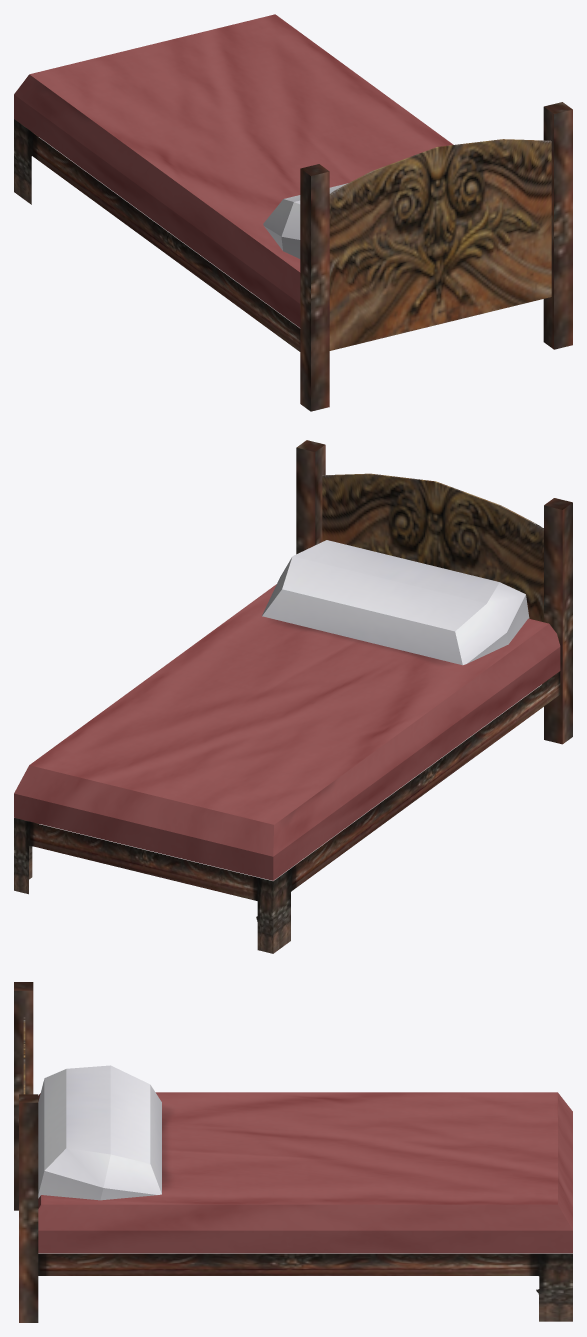
The model's file is bed.fbx.
3 views of the same model, one above another, from view 1: azimuth 30°, elevation 25°; view 2: azimuth 150°, elevation 25°; view 3: azimuth 270°, elevation 25° (orthographic). The views are drawn at different scales.
Parts seen in each view (by area): view 1: bed; view 2: bed; view 3: bed.
Part boxes in pixels (bbox=[...]): bed: bbox=[14, 14, 572, 411]; bed: bbox=[14, 440, 572, 953]; bed: bbox=[14, 982, 572, 1322].
Size of the model in its own units: 104 by 88.77 by 204.
